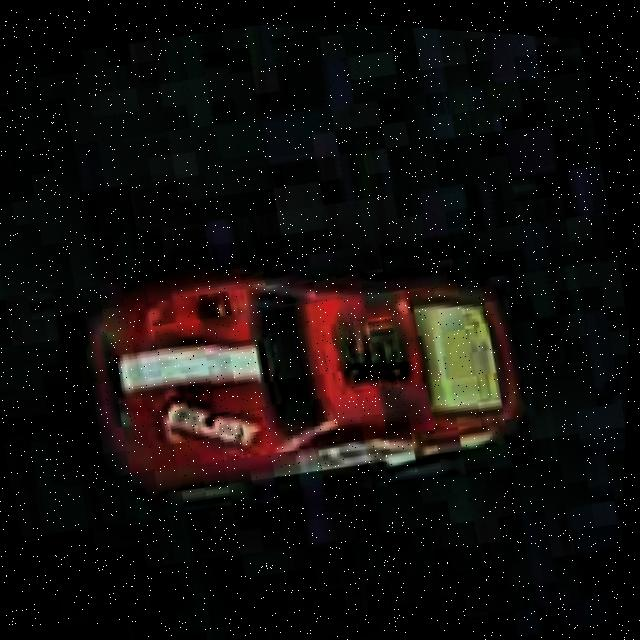car: (46, 184, 553, 565)
